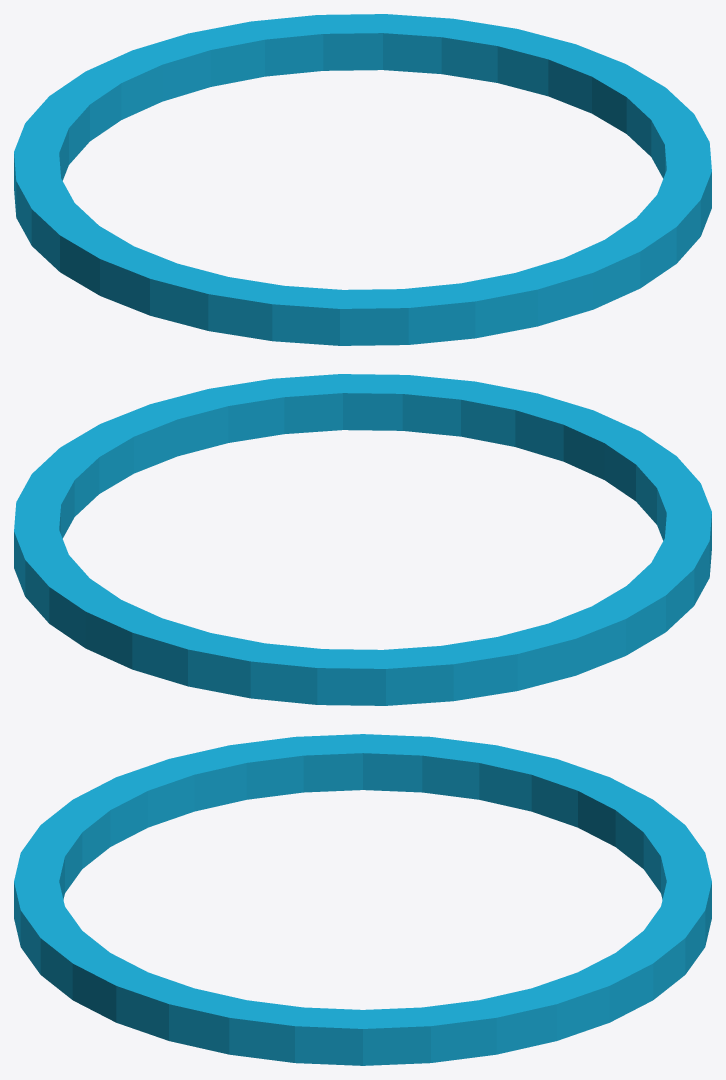
File: Selected.fbx
The picture shows the model from 3 angles, top to bottom: view 1: azimuth 30°, elevation 25°; view 2: azimuth 150°, elevation 25°; view 3: azimuth 270°, elevation 25°; orthographic projection.
Parts seen in each view (by area): view 1: Cylinder; view 2: Cylinder; view 3: Cylinder.
Boxes of the visible parts, <box> form: Cylinder: <box>14,14,711,345</box>; Cylinder: <box>14,374,711,705</box>; Cylinder: <box>14,734,711,1065</box>.
Bounding box in the file's own units: 2 × 0.1167 × 2.
